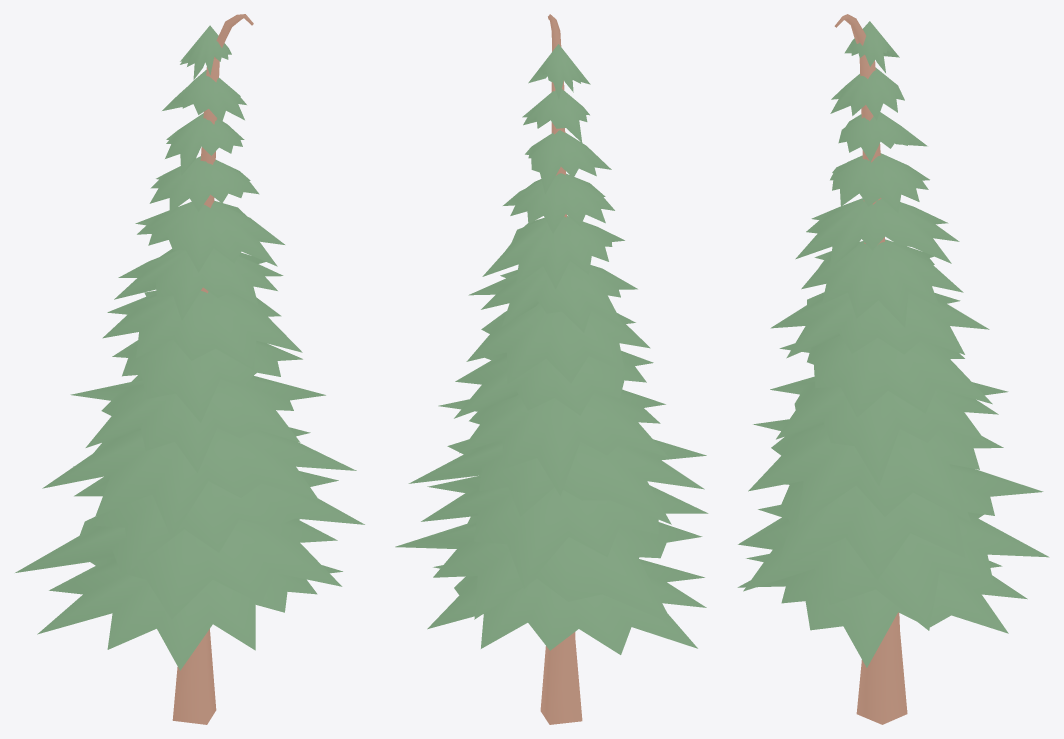
Rendered from Blender_Hemlock_1_Far.glb.
The picture shows the model from 3 angles, left to right: view 1: azimuth 30°, elevation 25°; view 2: azimuth 150°, elevation 25°; view 3: azimuth 270°, elevation 25°; orthographic projection. The views are drawn at different scales.
Visible parts, largest first — view 1: Blender_Hemlock_1_Far; view 2: Blender_Hemlock_1_Far; view 3: Blender_Hemlock_1_Far.
Part boxes in pixels (left/top/right/bottom): Blender_Hemlock_1_Far: left=15, top=14, right=364, bottom=724; Blender_Hemlock_1_Far: left=395, top=14, right=708, bottom=724; Blender_Hemlock_1_Far: left=737, top=14, right=1049, bottom=724.
Size of the model in its own units: 18.85 by 42.39 by 16.84.
